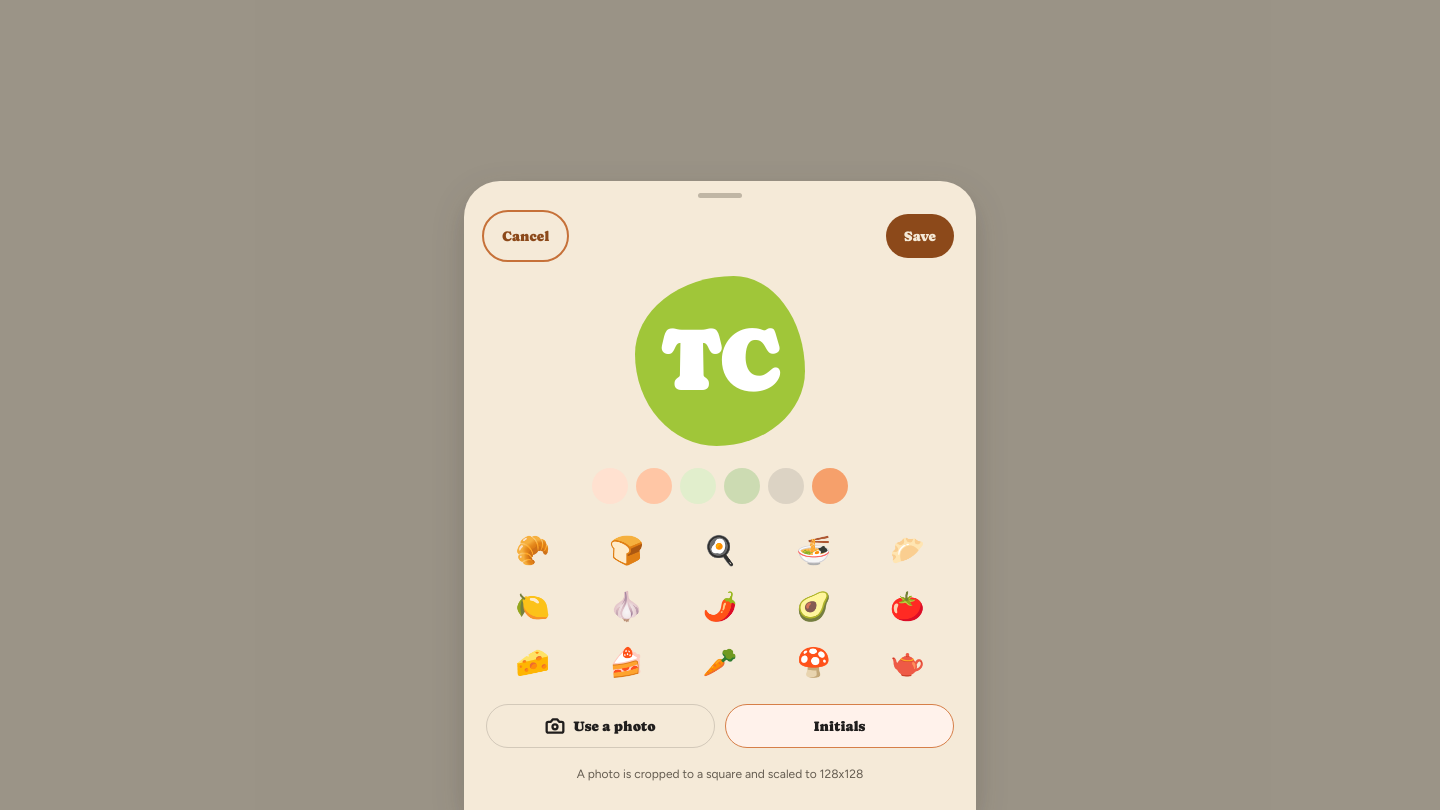
Scenario: AvatarEditor › stays open and shows an alert when saving fails
The image size is (1440, 810).
What coordinates should you click on to do the following:
click the button "Save"
I would click on:
 (920, 236)
Its box is [886,214,954,258].
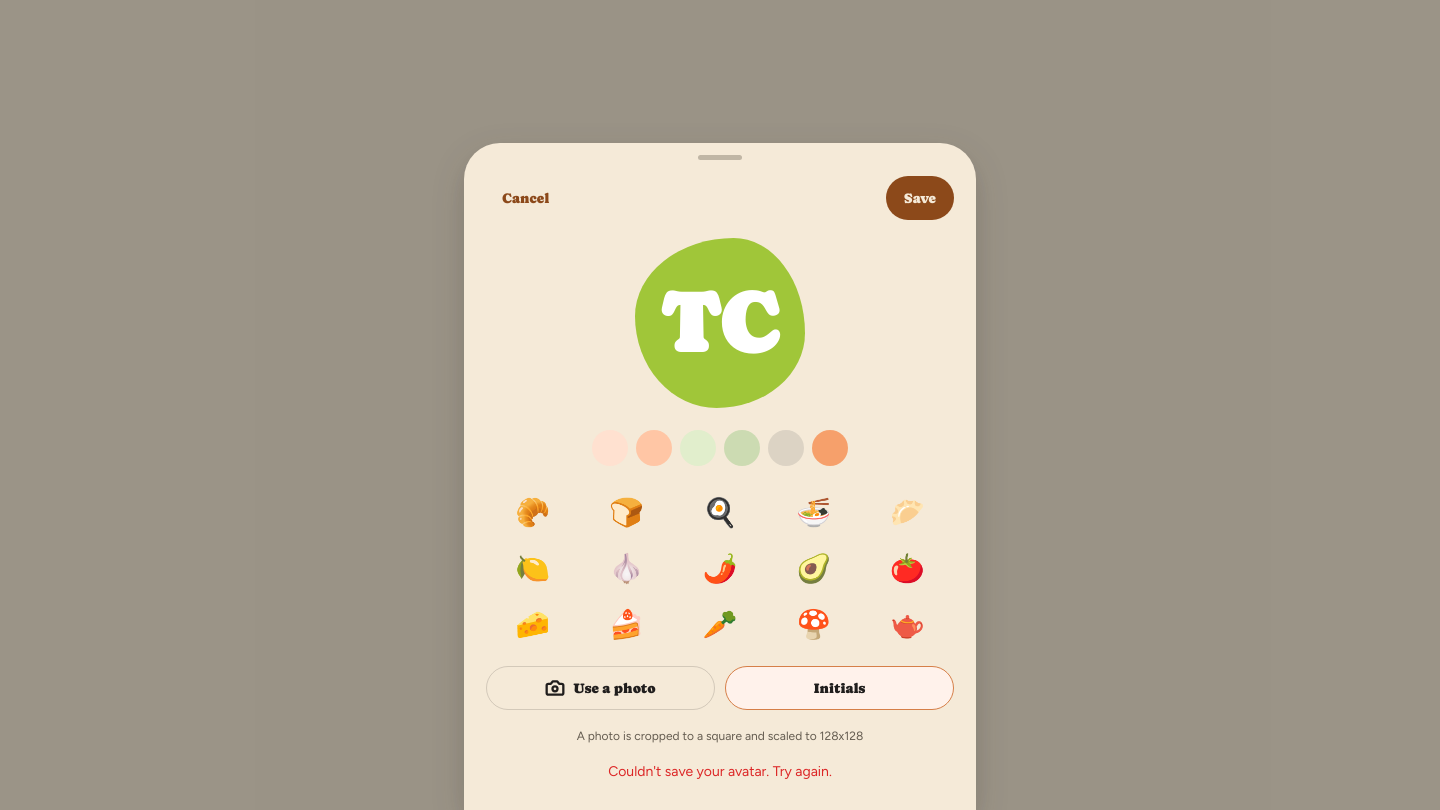
Expected: the button "Save" is enabled, [886,176,954,220]
Now the message "Couldn't save your avatar. Try again." is shown, box [608,763,832,780]
